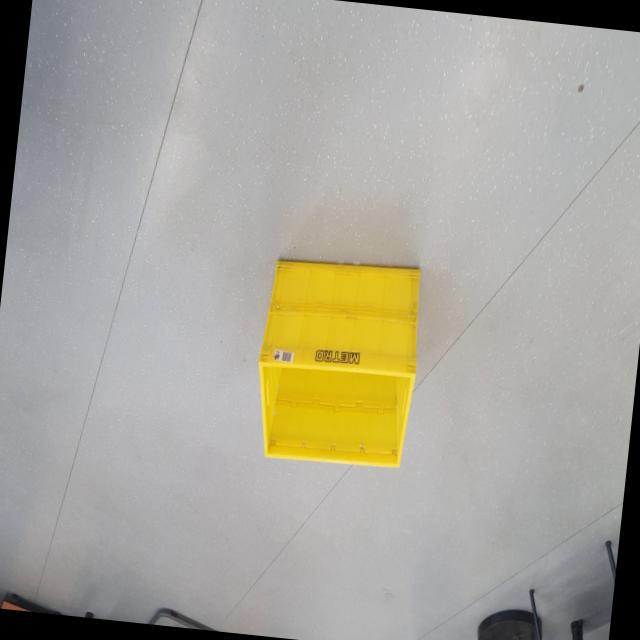box: (243, 230, 438, 488)
